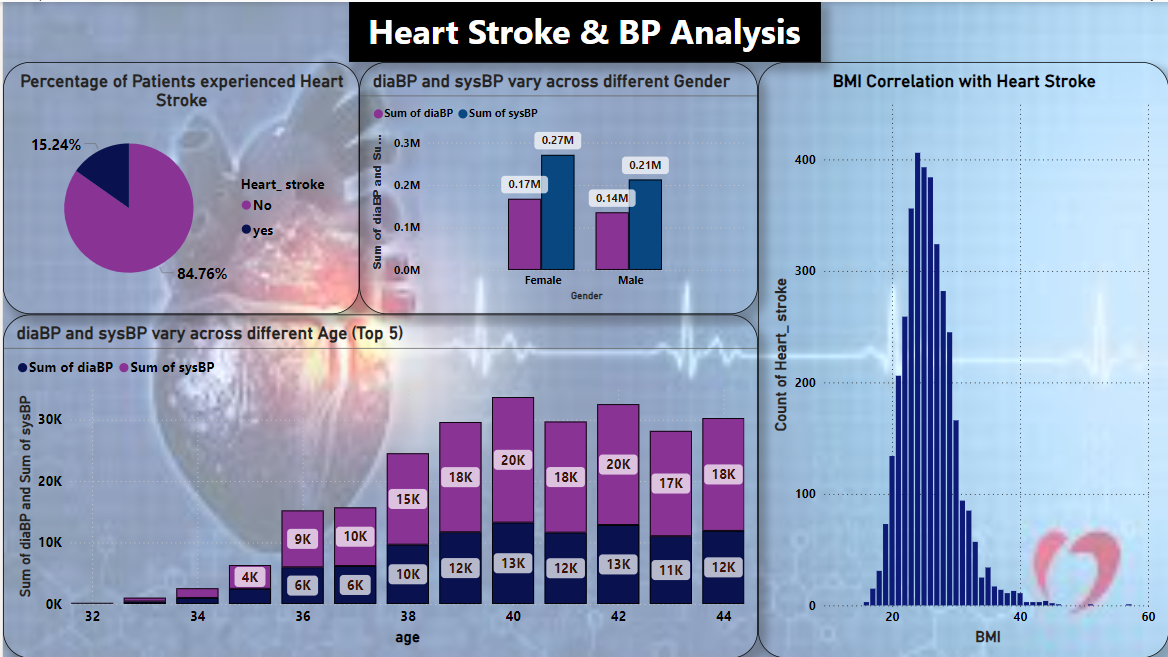

The dashboard page shown, as its layout file describes it:
{"tool":"powerbi","page":{"name":"Page 4","canvas":[1280,720],"ordinal":0},"visuals":[{"type":"pieChart","title":"Percentage of Patients experienced Heart Stroke","fields":{"Y":["CountNonNull(heart_disease.Gender)"],"Category":["heart_disease.Heart_ stroke"]},"box":[0,65.9,391.1,277.2],"z":0},{"type":"lineClusteredColumnComboChart","title":"BMI Correlation with Heart Stroke","fields":{"Y":["CountNonNull(heart_disease.Heart_ stroke)"],"Category":["heart_disease.BMI"]},"box":[828.8,65.9,451.5,654.5],"z":1000},{"type":"textbox","box":[380.1,0,517.3,65.9],"z":2000},{"type":"lineStackedColumnComboChart","title":"diaBP and sysBP vary across different Age (Top 5)","fields":{"Category":["heart_disease.age","heart_disease.Gender"],"Y":["Sum(heart_disease.diaBP)","Sum(heart_disease.sysBP)"]},"box":[0,343.1,828.8,377.4],"z":3000},{"type":"lineClusteredColumnComboChart","title":"diaBP and sysBP vary across different Gender","fields":{"Category":["heart_disease.Gender"],"Y":["Sum(heart_disease.diaBP)","Sum(heart_disease.sysBP)"]},"box":[391.1,65.9,437.7,277.2],"z":4000}]}

Visuals, with their boxes in screenshot pixels (x1, y1, x2, y2), scaled from the page's 1280x720 canvas onto the 1168x657 screenshot:
"Percentage of Patients experienced Heart Stroke" pieChart: (0, 60, 357, 313)
"BMI Correlation with Heart Stroke" lineClusteredColumnComboChart: (756, 60, 1167, 656)
textbox: (347, 0, 819, 60)
"diaBP and sysBP vary across different Age (Top 5)" lineStackedColumnComboChart: (0, 313, 756, 656)
"diaBP and sysBP vary across different Gender" lineClusteredColumnComboChart: (357, 60, 756, 313)
